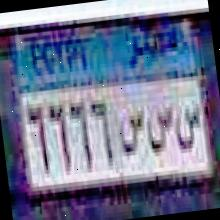6: (66, 90, 94, 178), (24, 94, 52, 180), (88, 90, 116, 174), (46, 96, 74, 178)
seen: (142, 94, 179, 170), (113, 97, 150, 166), (171, 92, 205, 158)
